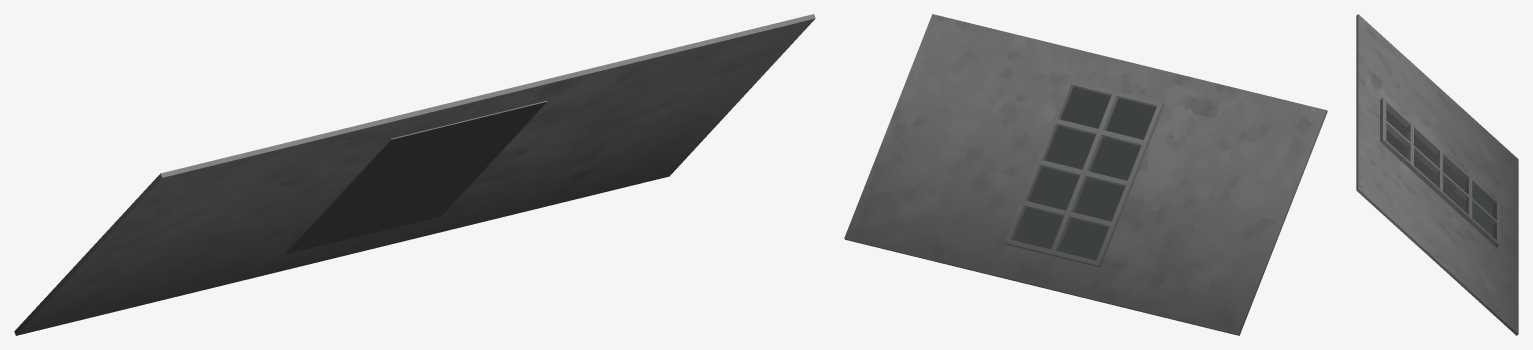
File: Factory_Roof.fbx
3 views of the same model, side by side, from view 1: azimuth 30°, elevation 25°; view 2: azimuth 150°, elevation 25°; view 3: azimuth 270°, elevation 25° (orthographic). The views are drawn at different scales.
Visible parts, largest first — view 1: Plane.034, Plane.038; view 2: Plane.034, Plane.038, Plane.040, Plane.039; view 3: Plane.034, Plane.040, Plane.038, Plane.039.
Boxes of the visible parts, x1,y1,x2,y2 form: Plane.034: (14,14,815,335); Plane.038: (284,101,547,254); Plane.034: (844,14,1327,335); Plane.038: (1013,87,1156,260); Plane.040: (1004,79,1164,267); Plane.039: (1024,90,1147,255); Plane.034: (1356,14,1518,335); Plane.040: (1380,98,1499,247); Plane.038: (1386,110,1492,236); Plane.039: (1380,118,1497,225).
Size of the model in its own units: 1819 by 714 by 714.
Materials: 1 (1 with a texture image).
